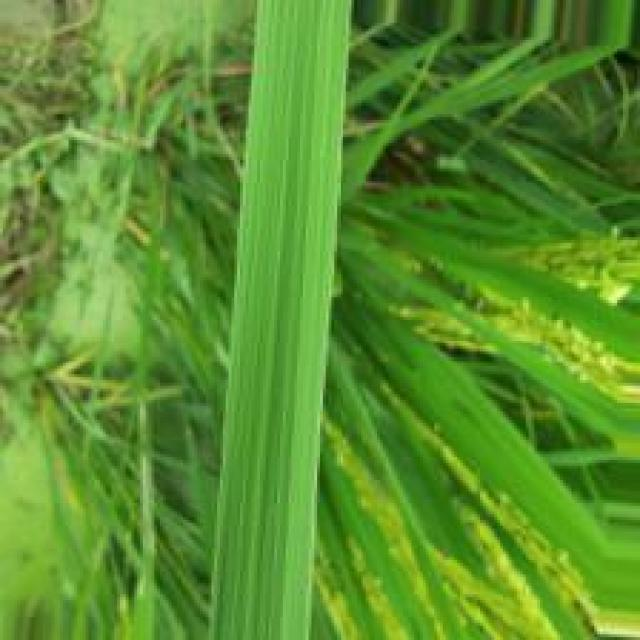HealthyLeaf: (210, 0, 355, 640)
